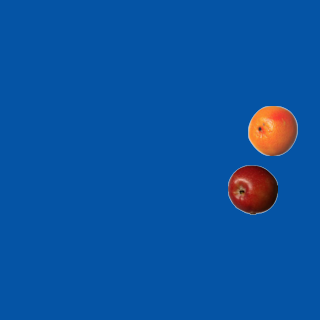Apple Braeburn: (227, 164, 277, 214)
Grapefruit Pink: (247, 105, 297, 155)
